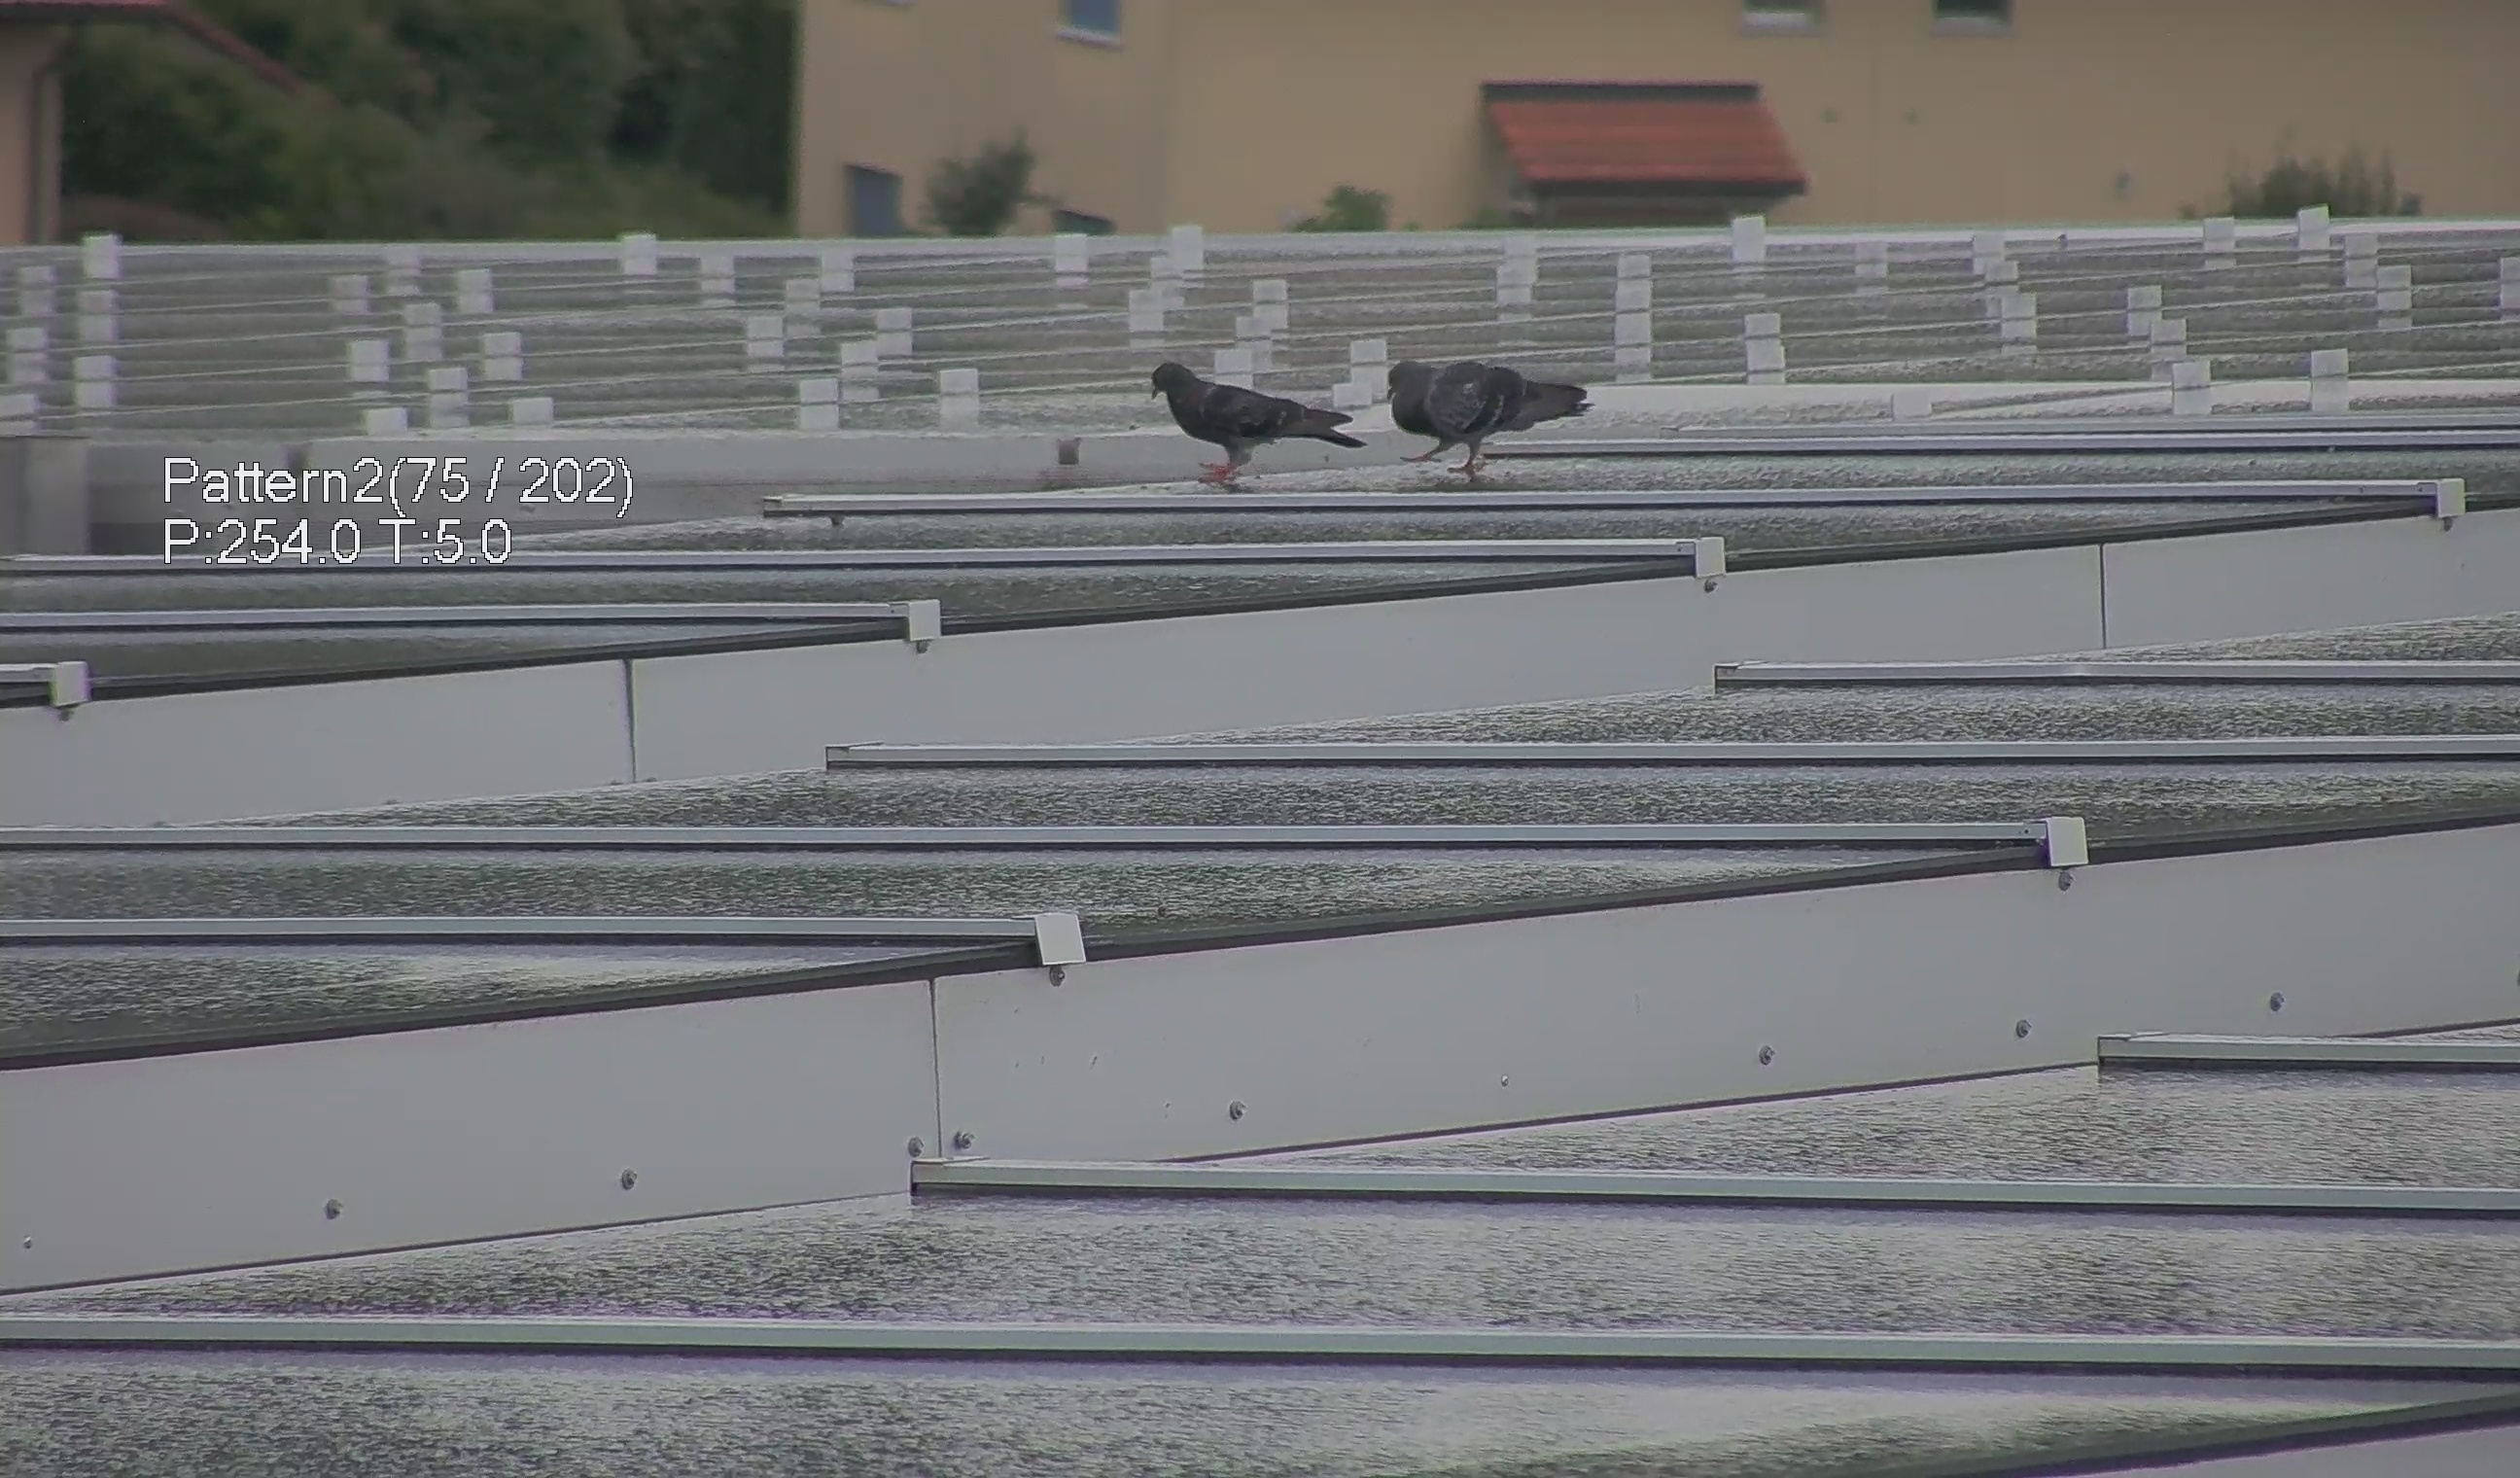Pigeon: (1373, 336, 1609, 466), (1129, 352, 1373, 477)
